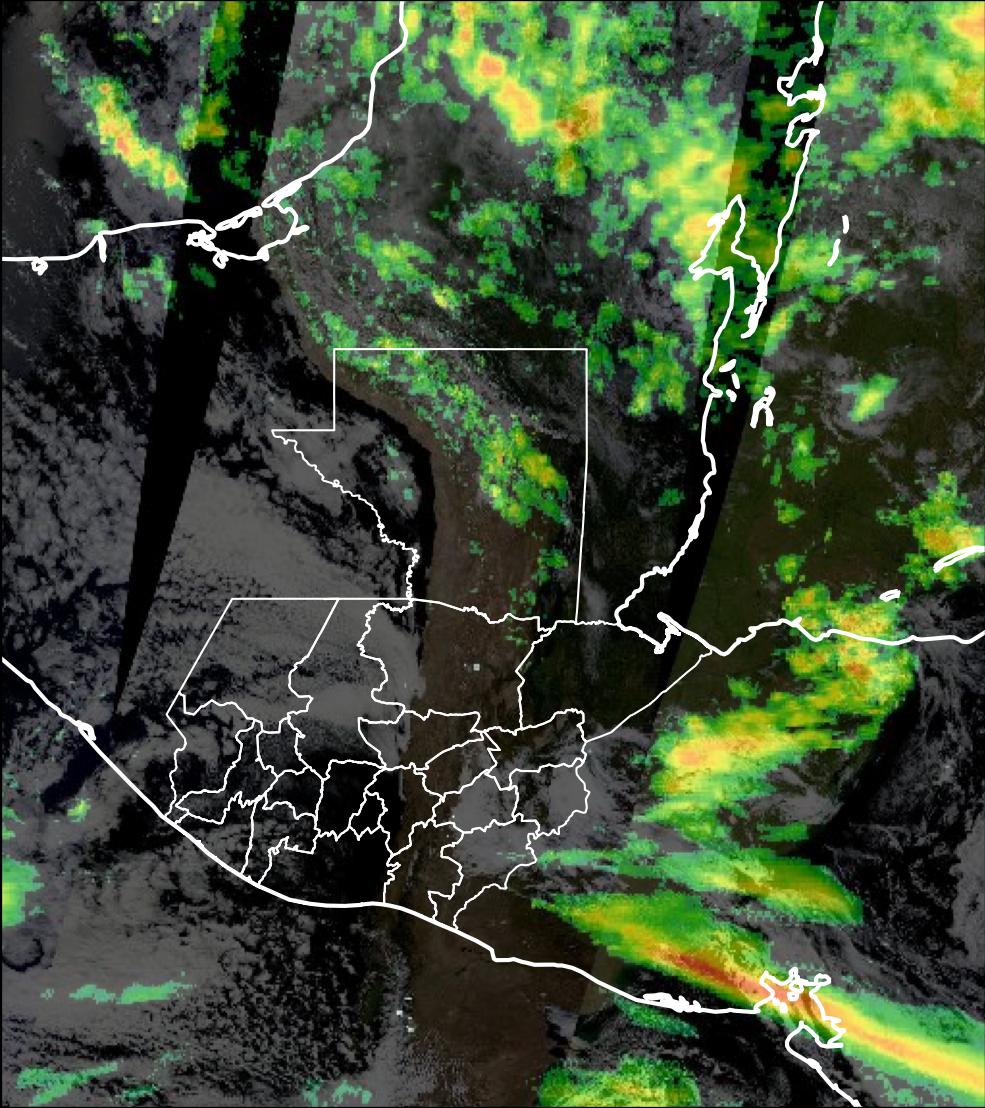precipitacion: (632, 920, 844, 1042), (476, 49, 620, 151)
